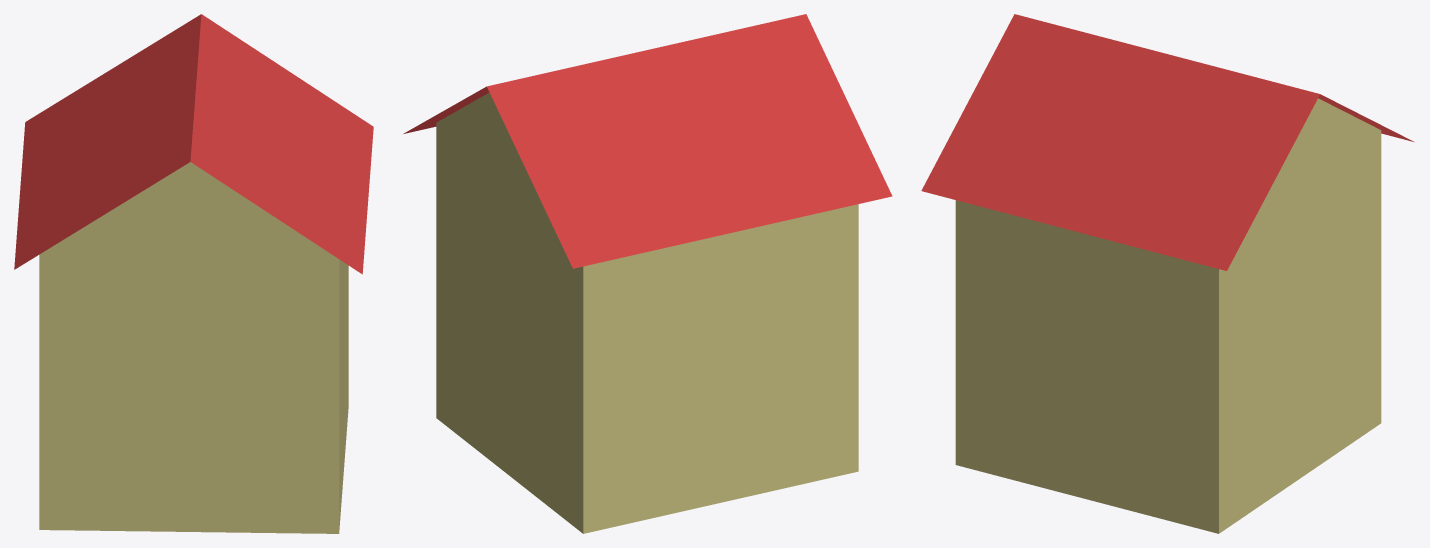
The picture shows the model from 3 angles, left to right: view 1: azimuth 30°, elevation 25°; view 2: azimuth 150°, elevation 25°; view 3: azimuth 270°, elevation 25°; orthographic projection. The views are drawn at different scales.
Bounding box in the file's own units: 14.84 × 14.85 × 12.95.
